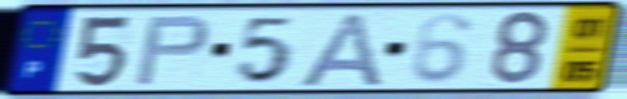5: (70, 12, 137, 89), (233, 14, 302, 85)
6: (408, 11, 475, 87)
8: (490, 9, 550, 88)
A: (292, 10, 386, 89)
P: (131, 13, 213, 88)
